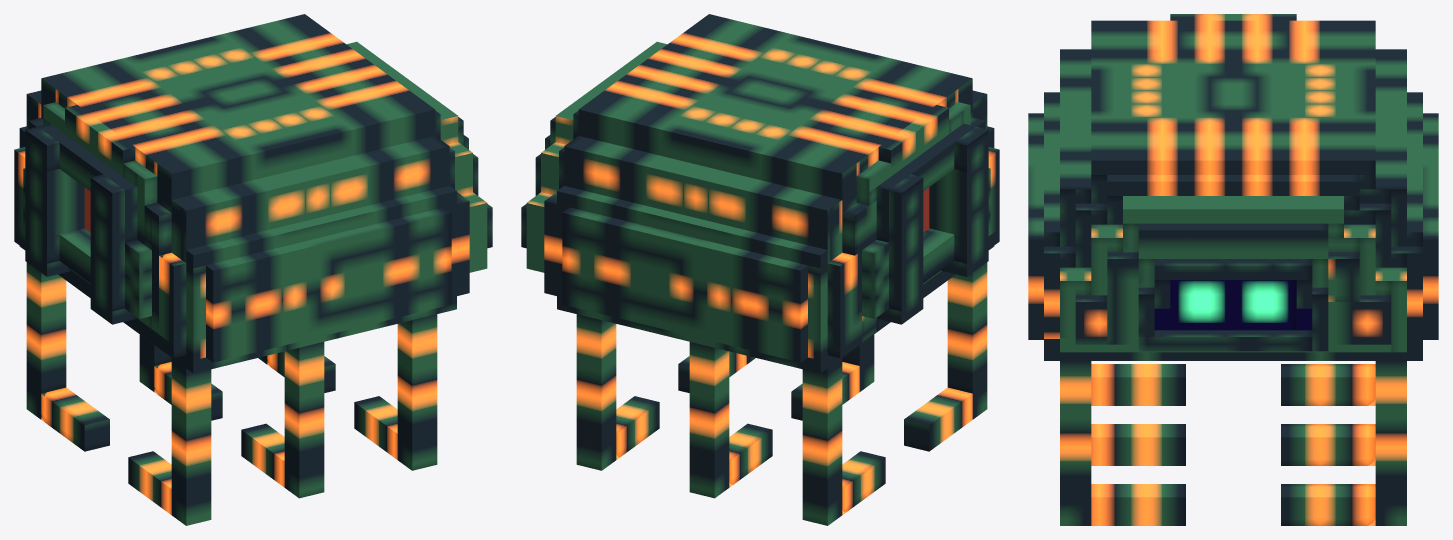
Rendered from dron.dae.
3 views of the same model, side by side, from view 1: azimuth 30°, elevation 25°; view 2: azimuth 150°, elevation 25°; view 3: azimuth 270°, elevation 25° (orthographic). The views are drawn at different scales.
Visible parts, largest first — view 1: Content; view 2: Content; view 3: Content.
Part boxes in pixels (box(x1,y1,x2,y2)): Content: box(14, 14, 492, 525); Content: box(521, 14, 999, 525); Content: box(1028, 14, 1438, 525).
Bounding box in the file's own units: 29 × 26 × 26.
Materials: 1 (1 with a texture image).
